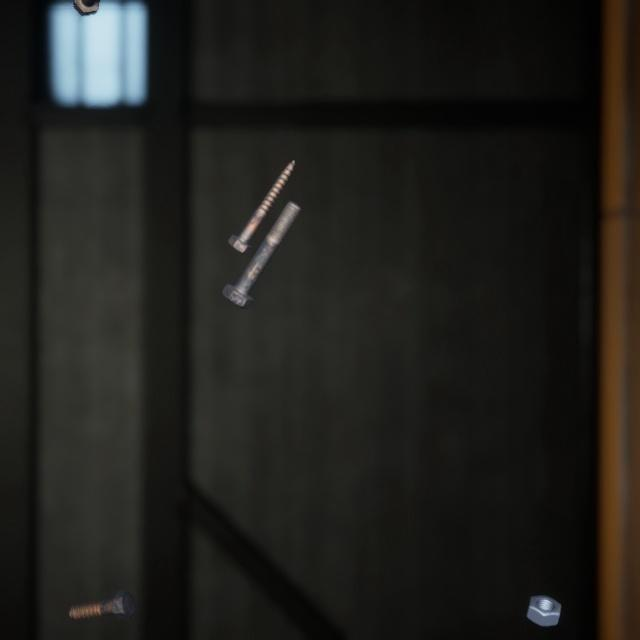bolt: (217, 179, 305, 296), (223, 140, 300, 243), (64, 562, 140, 602)
nut: (522, 567, 565, 606)
